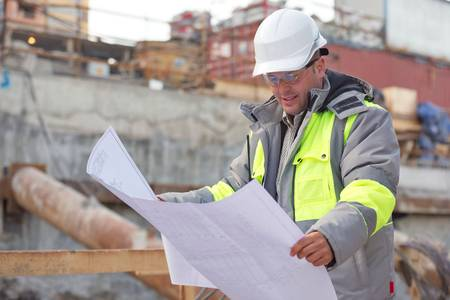casco: (251, 8, 330, 78)
